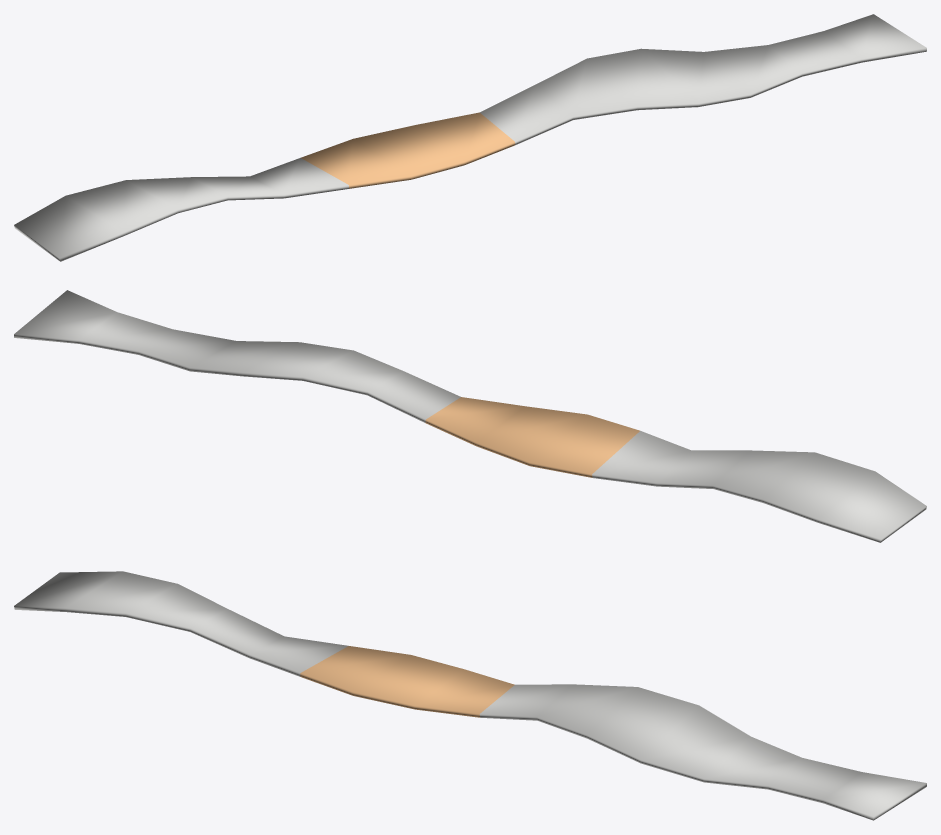
Rendered from debris_strip.glb.
3 views of the same model, one above another, from view 1: azimuth 30°, elevation 25°; view 2: azimuth 150°, elevation 25°; view 3: azimuth 330°, elevation 25° (orthographic).
Visible parts, largest first — view 1: strip_canopy_fabric; view 2: strip_canopy_fabric; view 3: strip_canopy_fabric.
Boxes of the visible parts, x1,y1,x2,y2 form: strip_canopy_fabric: [14, 14, 926, 261]; strip_canopy_fabric: [14, 290, 926, 542]; strip_canopy_fabric: [14, 571, 926, 820].
Size of the model in its own units: 2.4 by 0.0847 by 0.2811.
